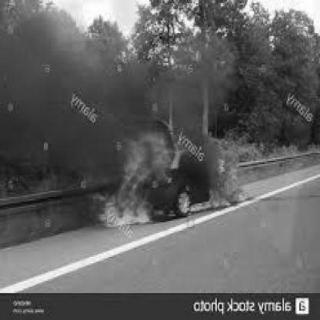Fire: (98, 121, 250, 227)
Smoke: (14, 41, 122, 113)
